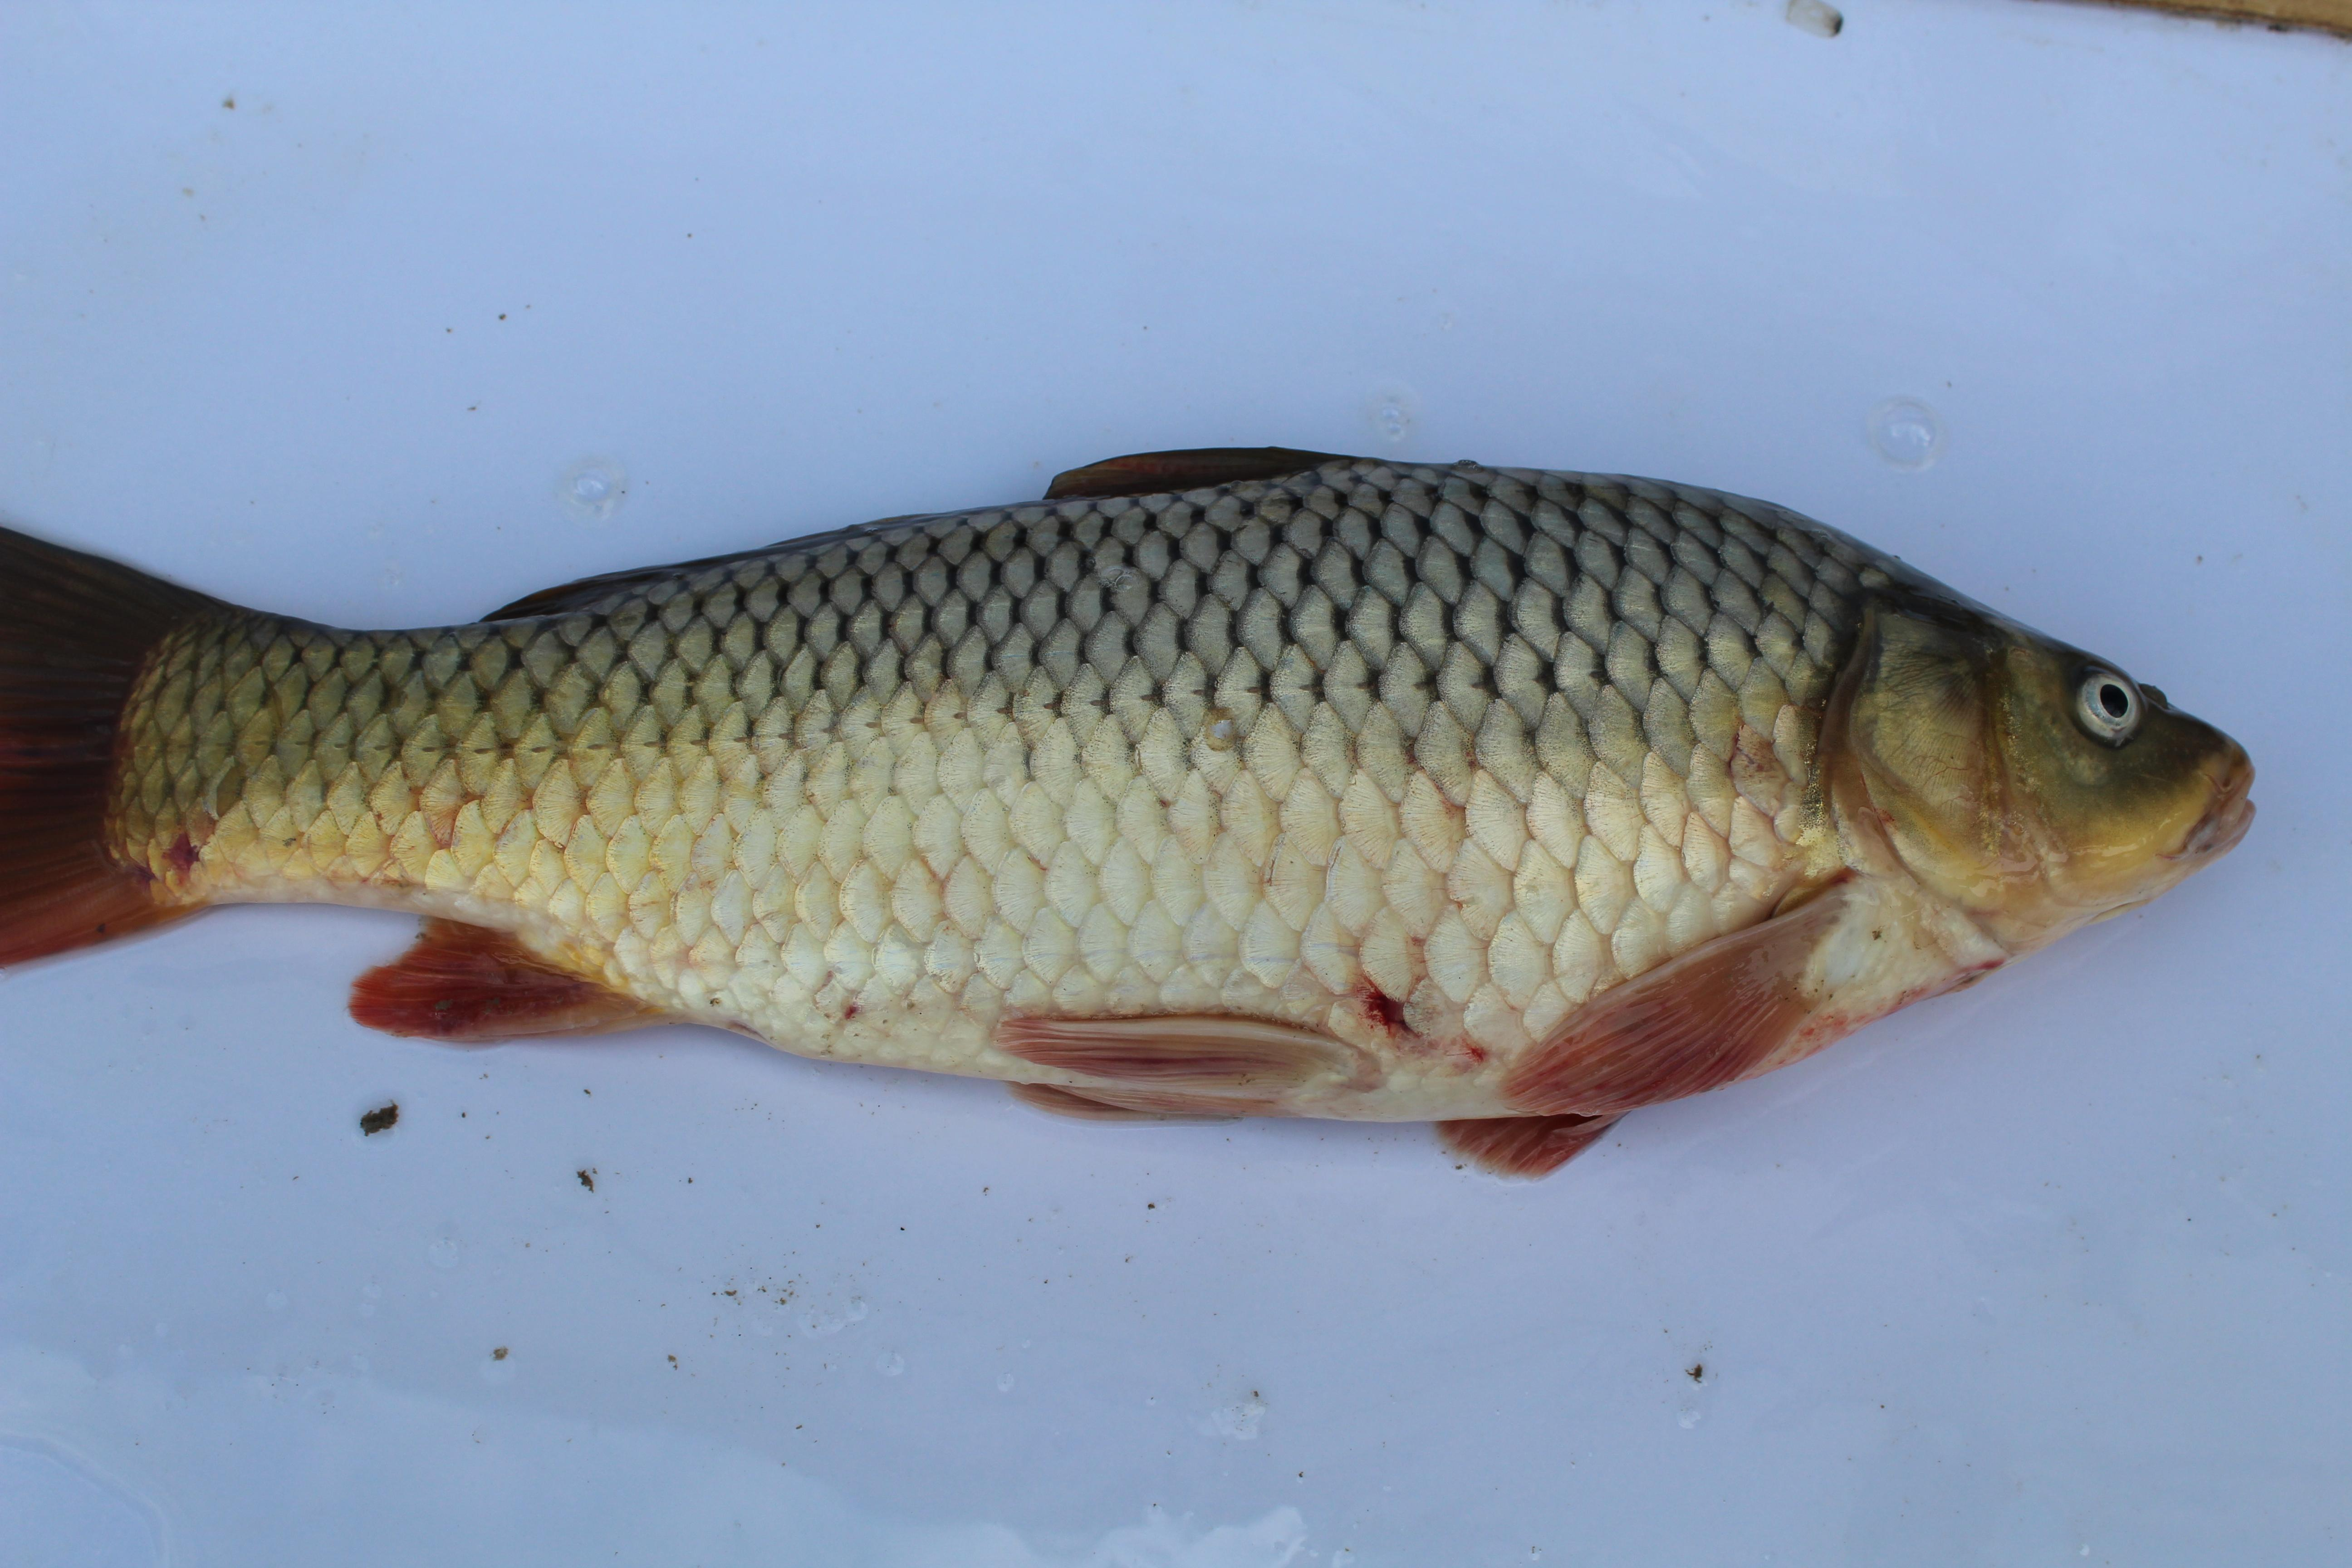Grass Carp: (2, 445, 2252, 1185)
